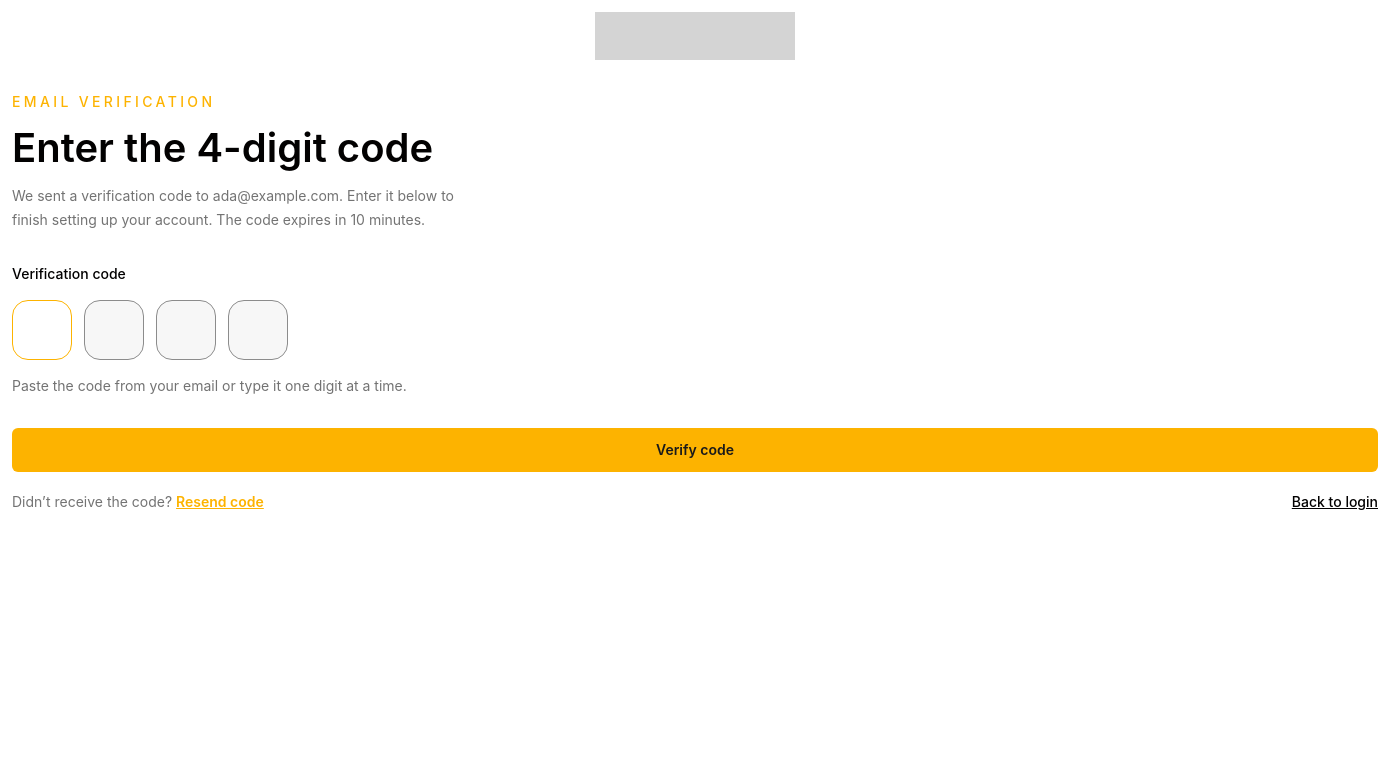
Test: VerifyEmail › renders the pending verification email and blocks incomplete submissions
The image size is (1390, 780).
expect the heading "Enter the 4-digit code" is shown: met, box [12,123,433,172]
expect the text "ada@example.com" is shown: met, box [12,187,454,228]
Click the button "Verify code" at (695, 450), box [12,428,1378,472]
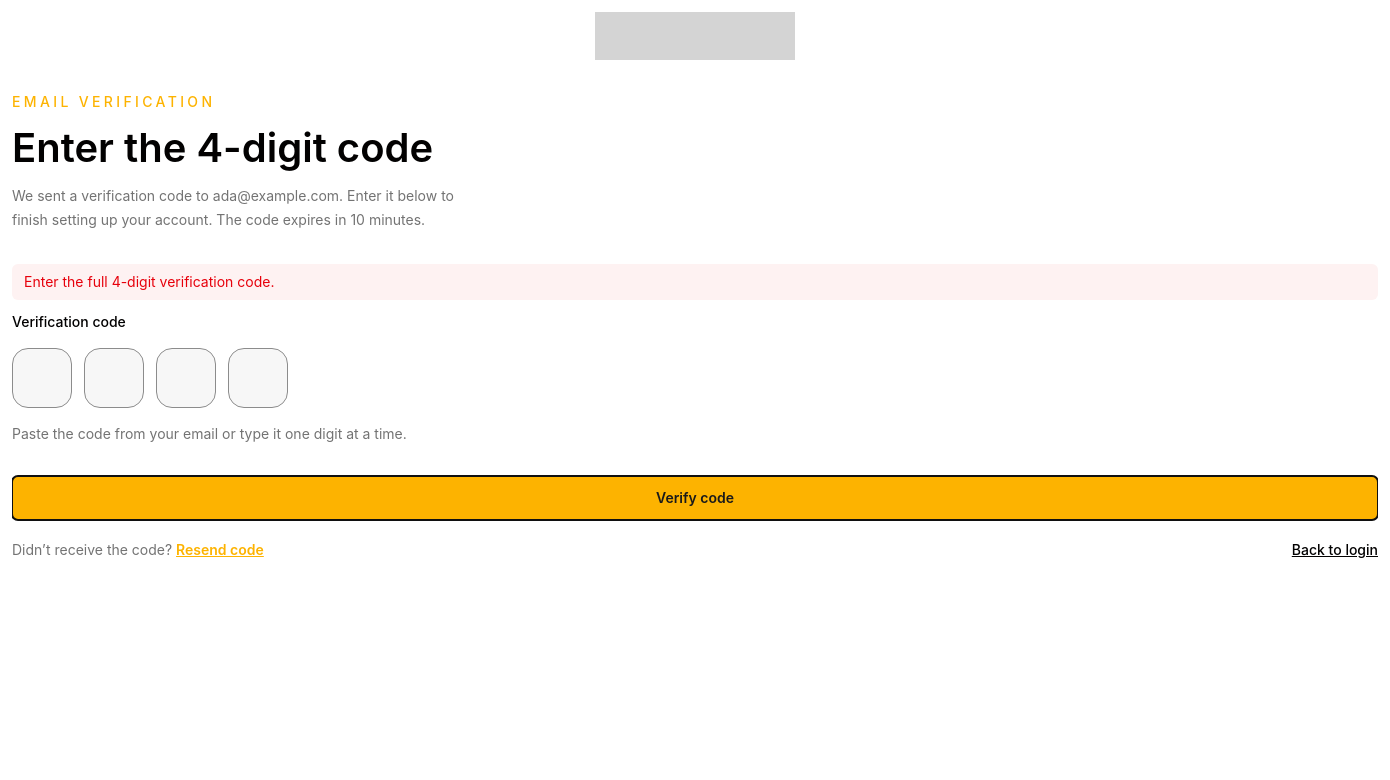
expect the text "Enter the full 4-digit verification code." is shown: met, box [12,264,1378,300]
